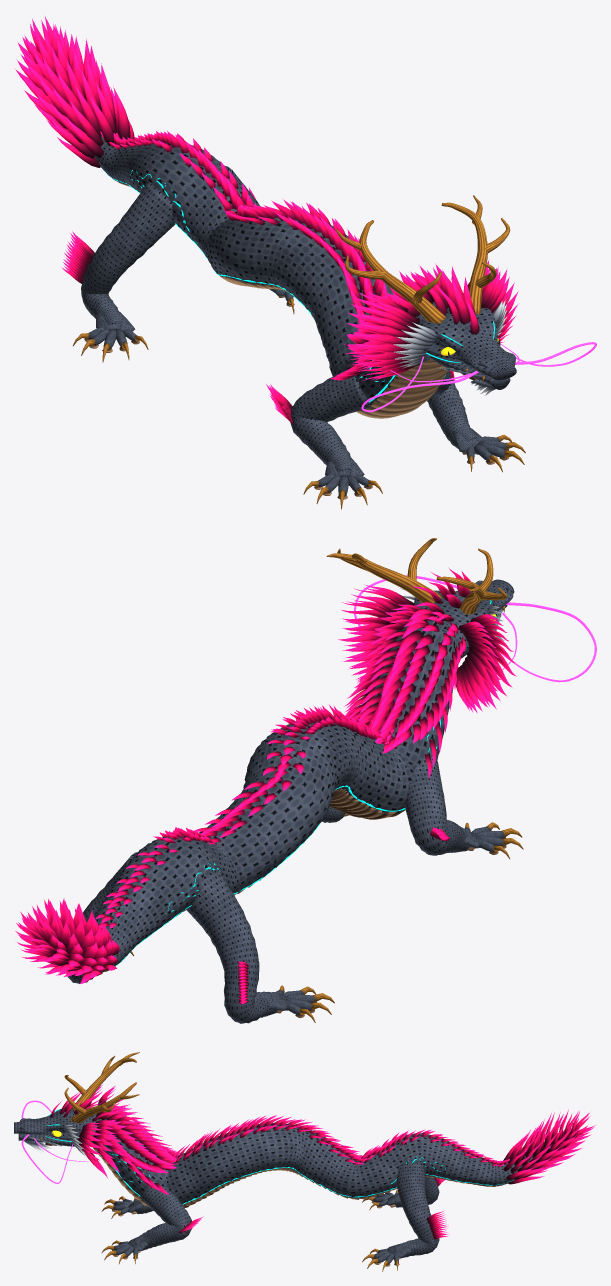
File: cyberpunk_dragon.glb
The picture shows the model from 3 angles, top to bottom: view 1: azimuth 30°, elevation 25°; view 2: azimuth 150°, elevation 25°; view 3: azimuth 270°, elevation 25°; orthographic projection. The views are drawn at different scales.
Parts seen in each view (by area): view 1: Dragon_Body, Dragon_Limbs, Dragon_Tail_Plume, Dragon_Mane, Dragon_Dorsal_Crest, Dragon_Head, Dragon_Antlers, Dragon_Belly_Scutes, Dragon_Beard, Dragon_Limb_Tufts, Dragon_Claws, Dragon_Whiskers; view 2: Dragon_Body, Dragon_Mane, Dragon_Limbs, Dragon_Dorsal_Crest, Dragon_Tail_Plume, Dragon_Antlers, Dragon_Head, Dragon_Belly_Scutes, Dragon_Whiskers, Dragon_Claws; view 3: Dragon_Body, Dragon_Limbs, Dragon_Mane, Dragon_Dorsal_Crest, Dragon_Tail_Plume, Dragon_Head, Dragon_Antlers, Dragon_Belly_Scutes, Dragon_Claws, Dragon_Limb_Tufts, Dragon_Cyan_Conduits, Dragon_Beard (+1 smaller).
Boxes of the visible parts, left/top/right/bottom form: Dragon_Body: left=94, top=136, right=398, bottom=407; Dragon_Limbs: left=81, top=165, right=509, bottom=499; Dragon_Tail_Plume: left=14, top=16, right=134, bottom=167; Dragon_Mane: left=330, top=259, right=518, bottom=381; Dragon_Dorsal_Crest: left=100, top=131, right=387, bottom=324; Dragon_Head: left=415, top=302, right=516, bottom=389; Dragon_Antlers: left=335, top=195, right=510, bottom=323; Dragon_Belly_Scutes: left=112, top=178, right=479, bottom=418; Dragon_Beard: left=393, top=299, right=506, bottom=395; Dragon_Limb_Tufts: left=61, top=188, right=454, bottom=424; Dragon_Claws: left=73, top=297, right=525, bottom=509; Dragon_Whiskers: left=361, top=342, right=596, bottom=412; Dragon_Body: left=91, top=619, right=456, bottom=970; Dragon_Mane: left=338, top=567, right=516, bottom=778; Dragon_Limbs: left=66, top=757, right=506, bottom=1023; Dragon_Dorsal_Crest: left=96, top=704, right=396, bottom=929; Dragon_Tail_Plume: left=15, top=898, right=119, bottom=983; Dragon_Antlers: left=326, top=538, right=507, bottom=614; Dragon_Head: left=396, top=579, right=514, bottom=658; Dragon_Belly_Scutes: left=101, top=788, right=405, bottom=972; Dragon_Whiskers: left=354, top=575, right=596, bottom=682; Dragon_Claws: left=130, top=822, right=523, bottom=1022; Dragon_Body: left=100, top=1119, right=550, bottom=1205; Dragon_Limbs: left=112, top=1163, right=439, bottom=1266; Dragon_Mane: left=50, top=1085, right=178, bottom=1194; Dragon_Dorsal_Crest: left=164, top=1115, right=516, bottom=1167; Dragon_Tail_Plume: left=503, top=1109, right=595, bottom=1184; Dragon_Head: left=14, top=1105, right=100, bottom=1146; Dragon_Antlers: left=64, top=1052, right=139, bottom=1123; Dragon_Belly_Scutes: left=45, top=1143, right=508, bottom=1208; Dragon_Claws: left=101, top=1190, right=398, bottom=1271; Dragon_Limb_Tufts: left=178, top=1177, right=448, bottom=1239; Dragon_Cyan_Conduits: left=105, top=1150, right=514, bottom=1204; Dragon_Beard: left=24, top=1098, right=87, bottom=1157.
Size of the model in its own units: 3.31 by 3.14 by 10.3.
9 materials, 5 textured.
